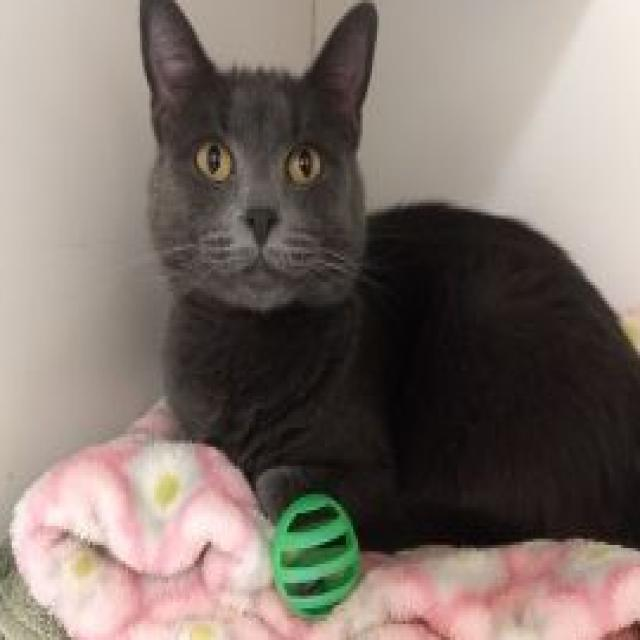Russian Blue: (132, 0, 640, 570)
